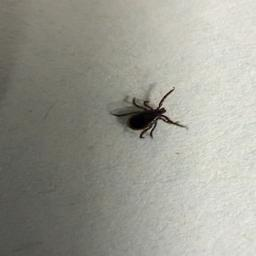Ixodes scapularis: (113, 88, 185, 139)
